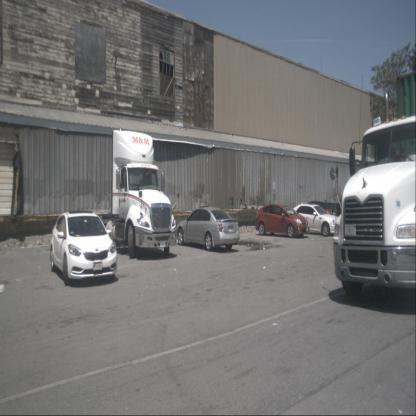vehicle-car: (50, 211, 118, 285), (176, 206, 240, 250), (255, 203, 310, 238), (286, 204, 341, 236), (302, 199, 338, 229)
vehicle-truck: (333, 90, 415, 297), (102, 130, 177, 258)
